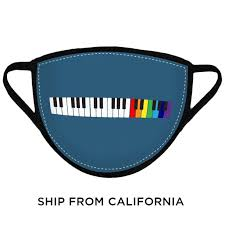cloth_mask: (3, 46, 225, 181)
